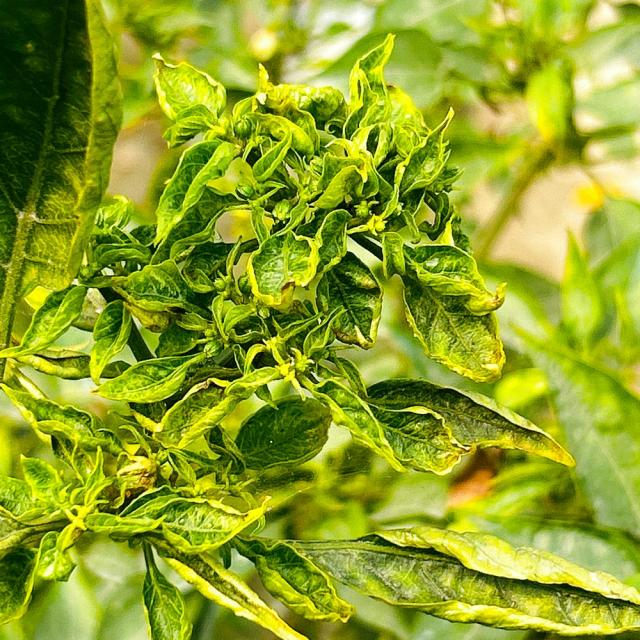Chilli_Leaf_Curl: (1, 27, 636, 637), (238, 523, 638, 637)
